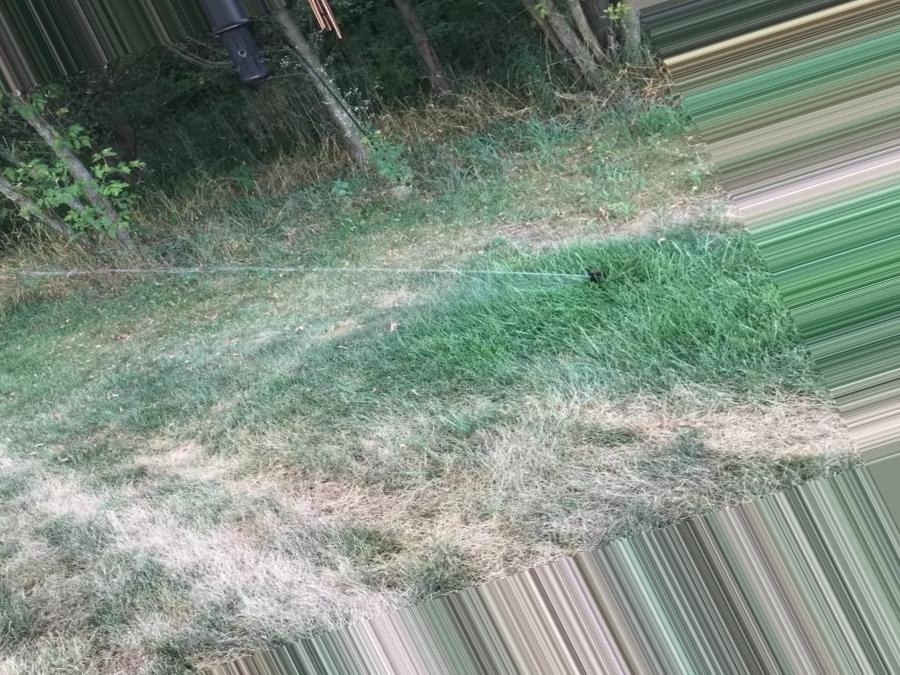patch: (72, 474, 403, 602), (537, 420, 798, 489)
